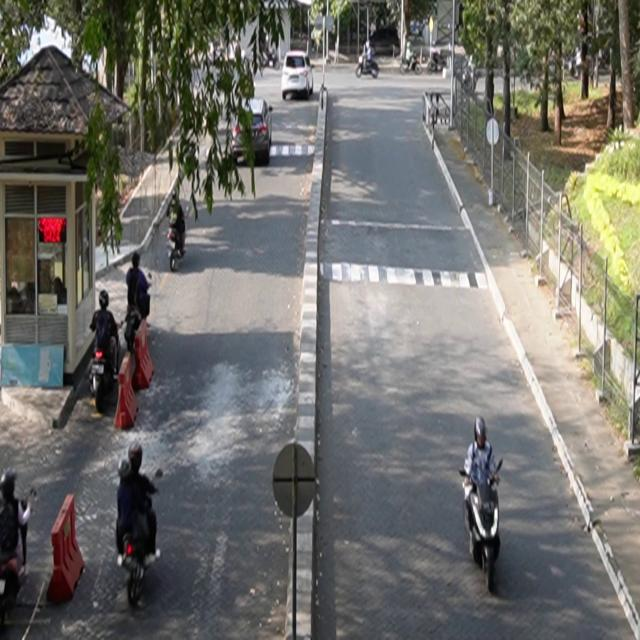car: (231, 98, 274, 166), (282, 51, 315, 101)
